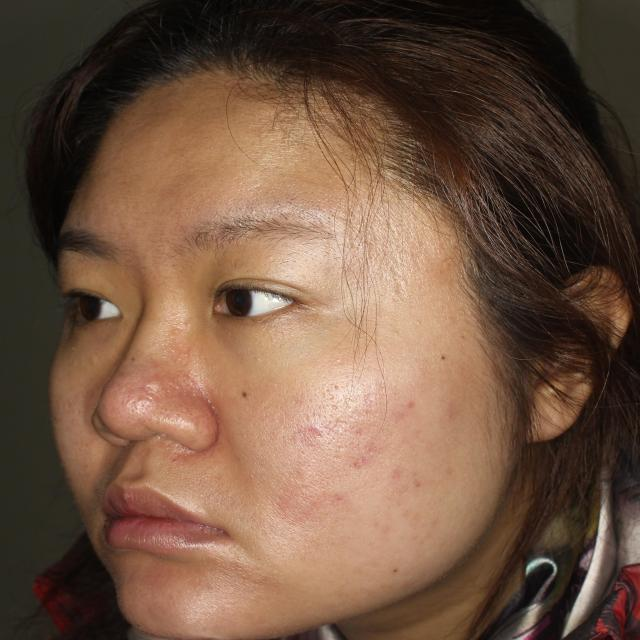acne: (349, 437, 377, 471), (317, 487, 343, 511)
